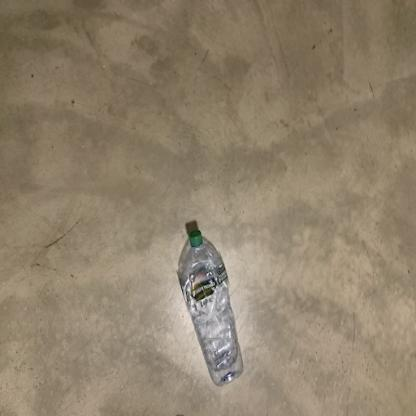trash: (177, 227, 244, 389)
